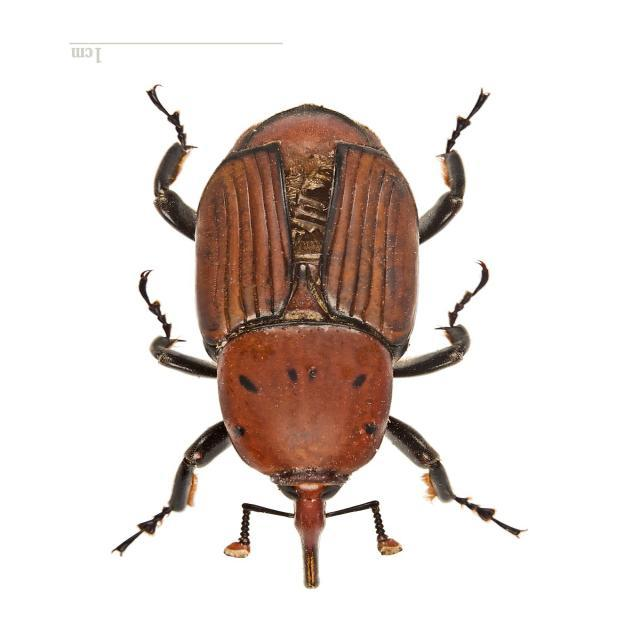Red-palm-weevil: (162, 101, 452, 592)
